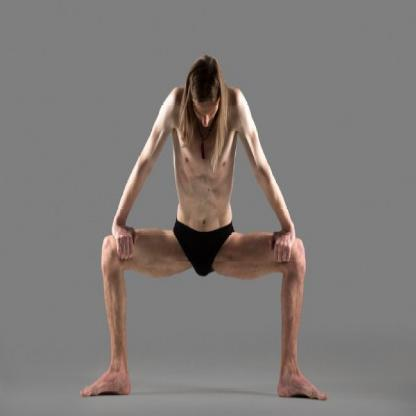godness: (77, 42, 333, 415)
